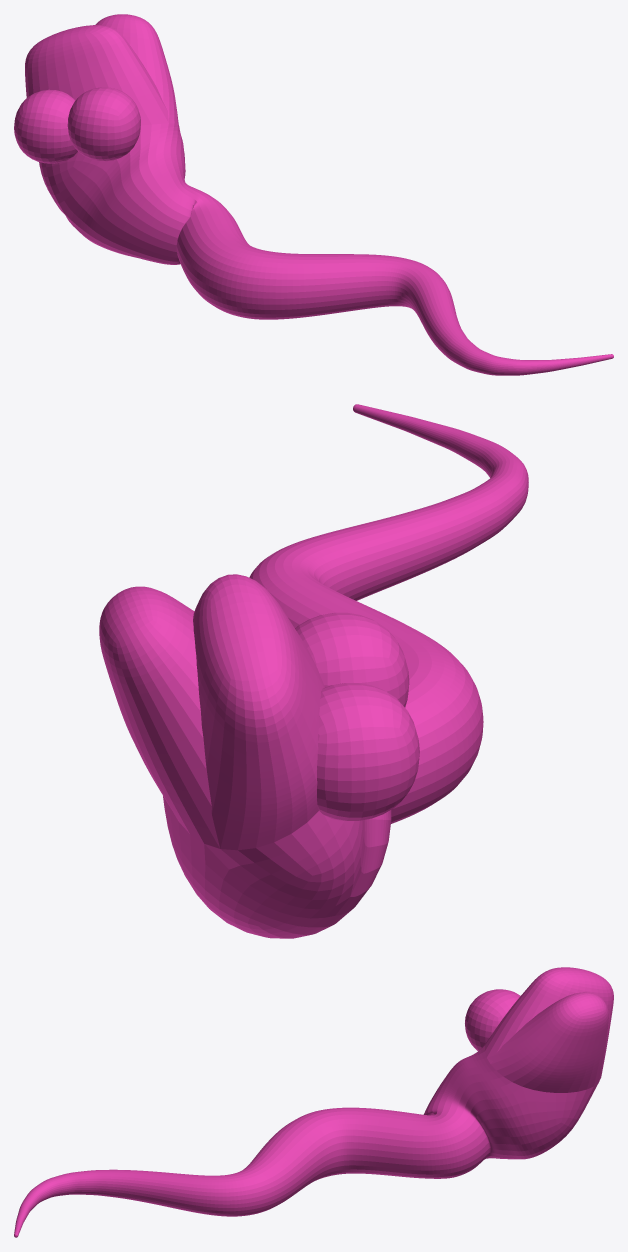
The model's file is snake2.glb.
The picture shows the model from 3 angles, top to bottom: view 1: azimuth 30°, elevation 25°; view 2: azimuth 150°, elevation 25°; view 3: azimuth 270°, elevation 25°; orthographic projection. The views are drawn at different scales.
Parts seen in each view (by area): view 1: Cube.006; view 2: Cube.006; view 3: Cube.006.
Part boxes in pixels (left/top/right/bottom): Cube.006: left=14, top=14, right=613, bottom=375; Cube.006: left=99, top=404, right=528, bottom=938; Cube.006: left=14, top=967, right=613, bottom=1237.
Bounding box in the file's own units: 0.3019 × 0.1875 × 0.5347.
